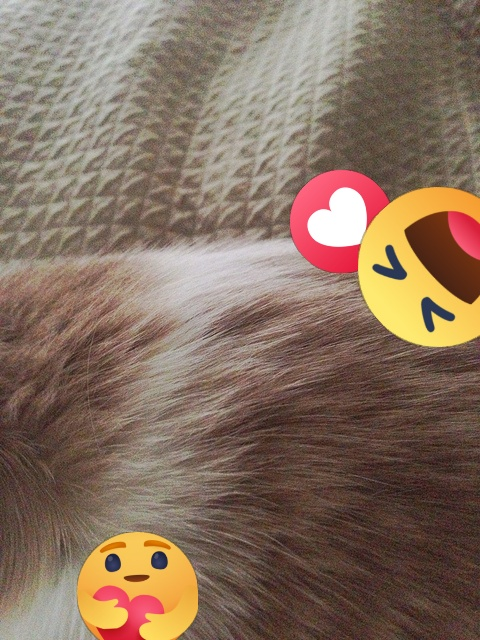care: (77, 532, 198, 640)
haha: (358, 187, 480, 347)
love: (290, 170, 393, 273)
